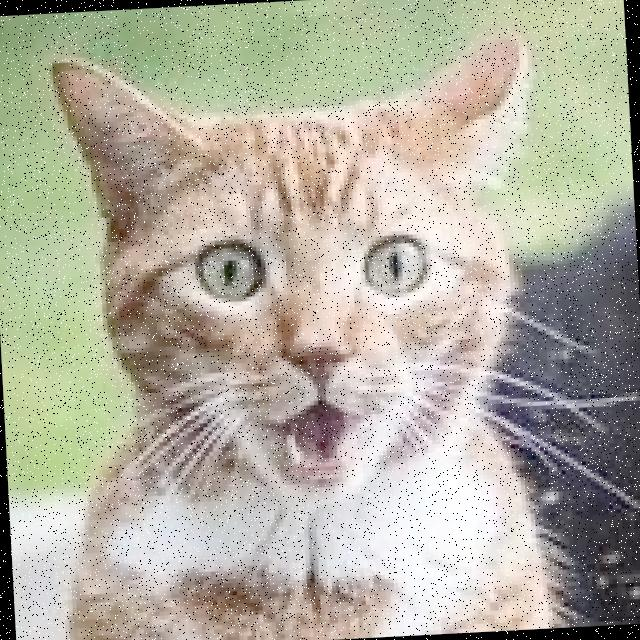Surprised: (166, 186, 466, 498)
